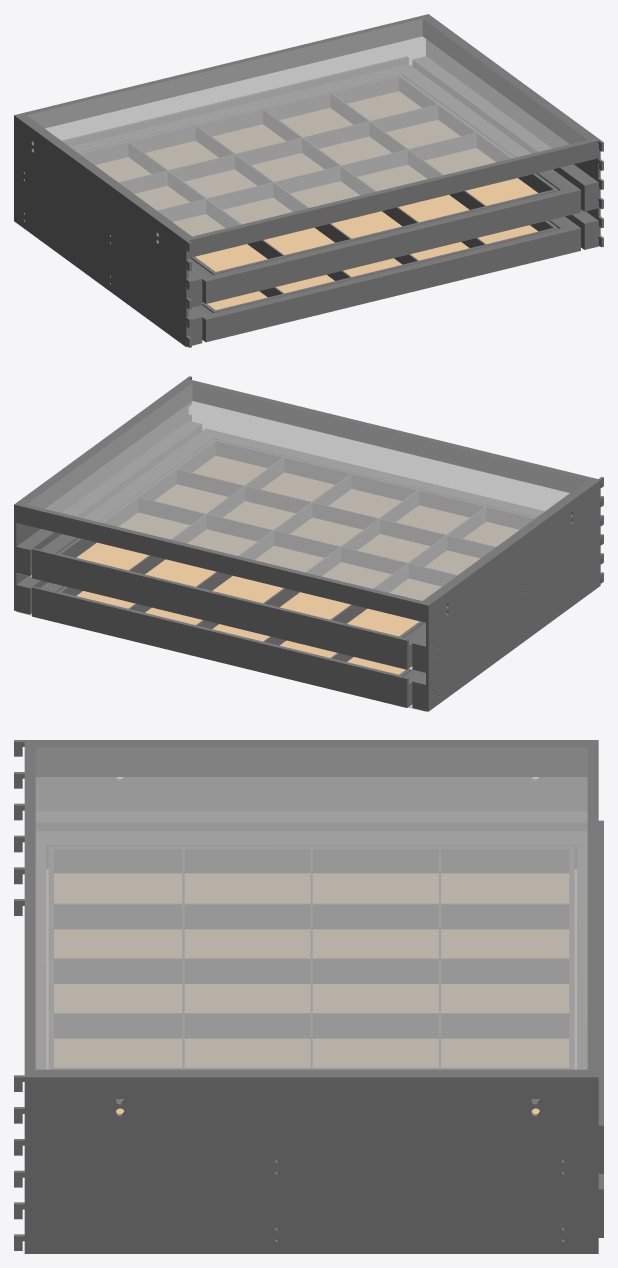
3 renders of one model, top to bottom at view 1: azimuth 30°, elevation 25°; view 2: azimuth 150°, elevation 25°; view 3: azimuth 270°, elevation 25°, orthographic. The views are drawn at different scales.
Visible parts, largest first — view 1: Geom3D (×3); view 2: Geom3D (×3); view 3: Geom3D (×3).
Part boxes in pixels (<box>): Geom3D (×3): <box>14,14,603,347</box>; Geom3D (×3): <box>14,376,603,711</box>; Geom3D (×3): <box>14,740,603,1253</box>.
Size of the model in its own units: 0.7368 by 0.181 by 0.545.
